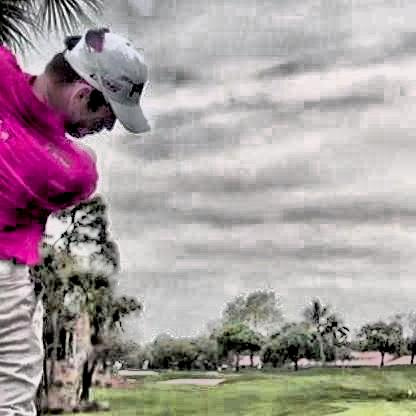golfball: (314, 315, 323, 323)
